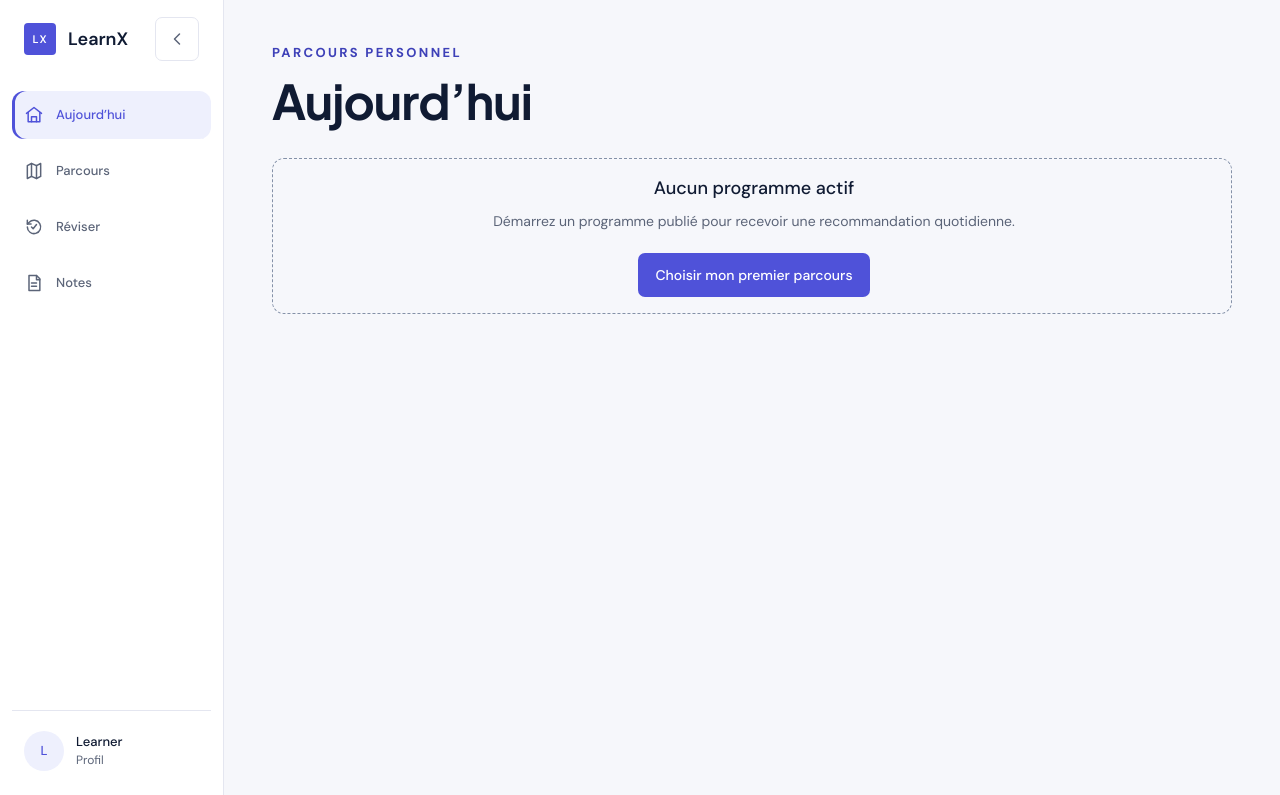
Test case: App › déplace le focus principal sans afficher de retour sur une racine
Expected: the heading "Aujourd’hui" is shown, [272, 70, 532, 130]
Click the link "L Learner Profil" at (112, 744), box [12, 710, 211, 779]
(page scrolled)
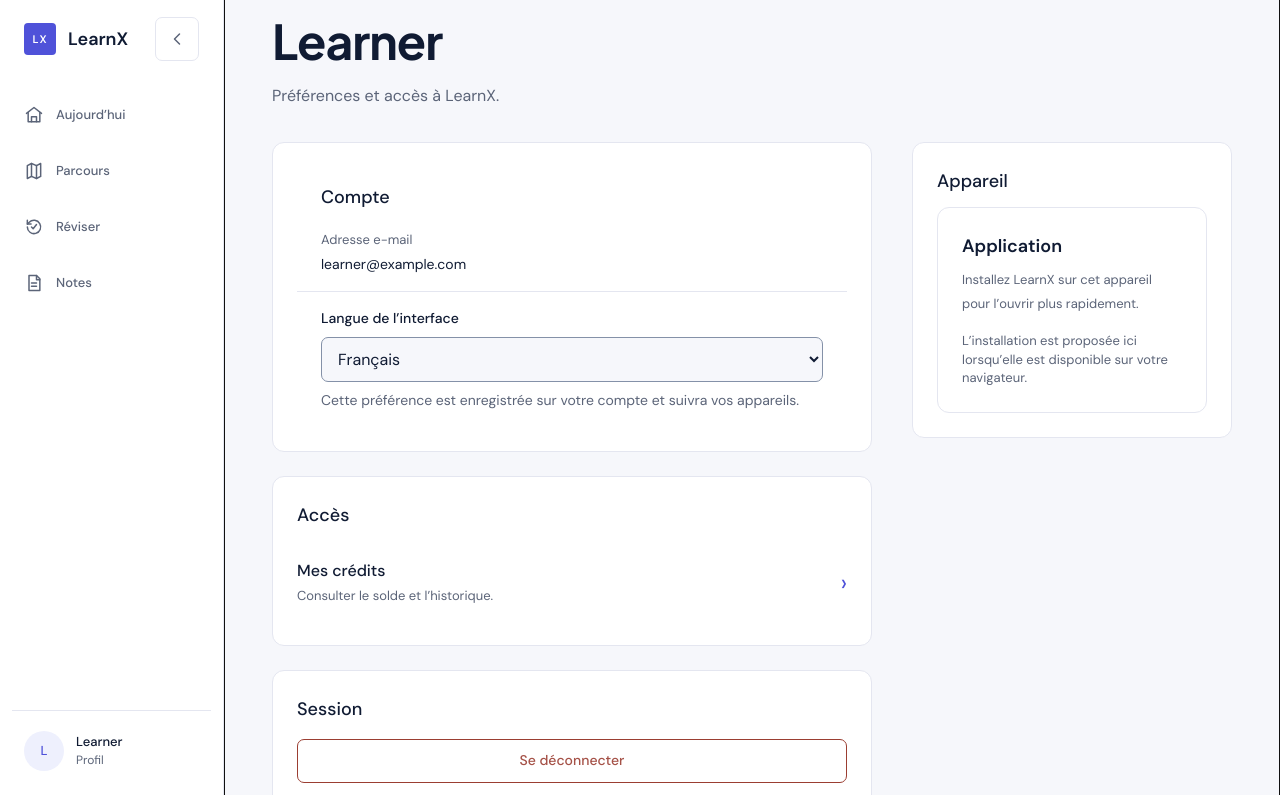
Expected: the heading "Learner" is shown, [272, 10, 442, 70]
